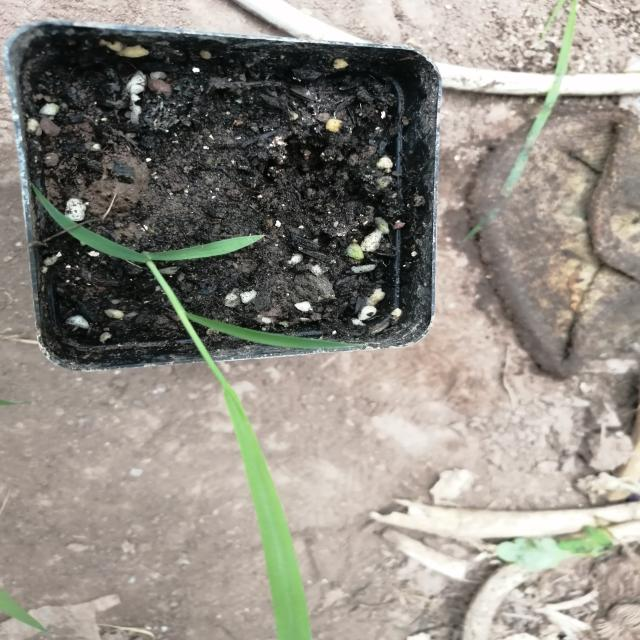crabgrass: (60, 198, 331, 615)
